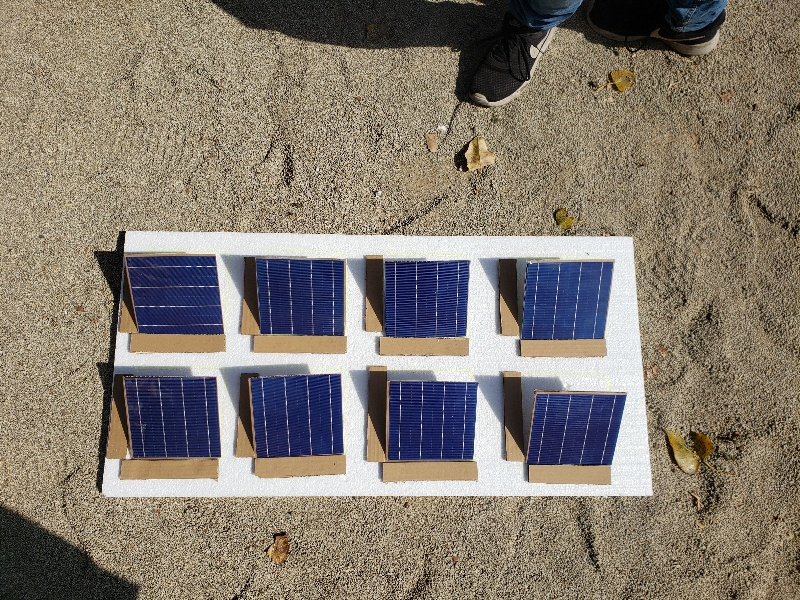clean: (122, 256, 229, 337), (118, 378, 225, 459), (244, 374, 351, 455), (374, 260, 481, 341), (386, 377, 485, 464), (531, 387, 626, 469), (521, 262, 616, 342), (252, 260, 350, 337)
